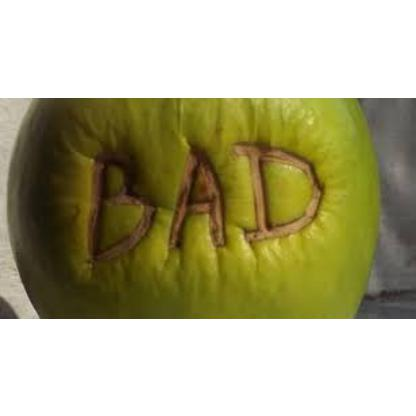damaged_apple: (13, 98, 377, 316)
